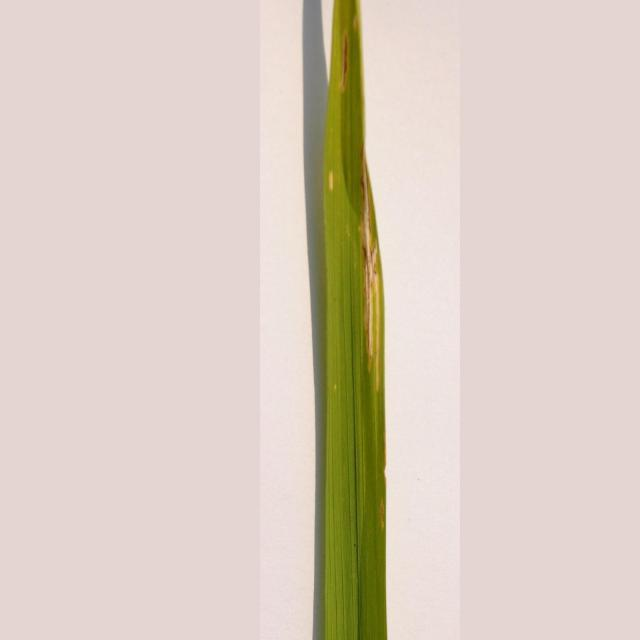leaf blight: (350, 161, 386, 379), (326, 1, 357, 88)
